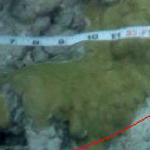alive: (1, 4, 146, 147)
